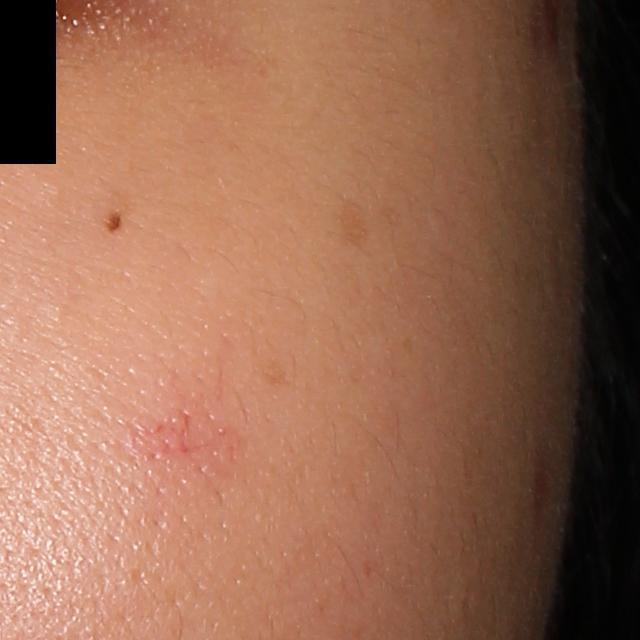melasma: (336, 195, 373, 254)
nevus: (104, 209, 120, 232)
